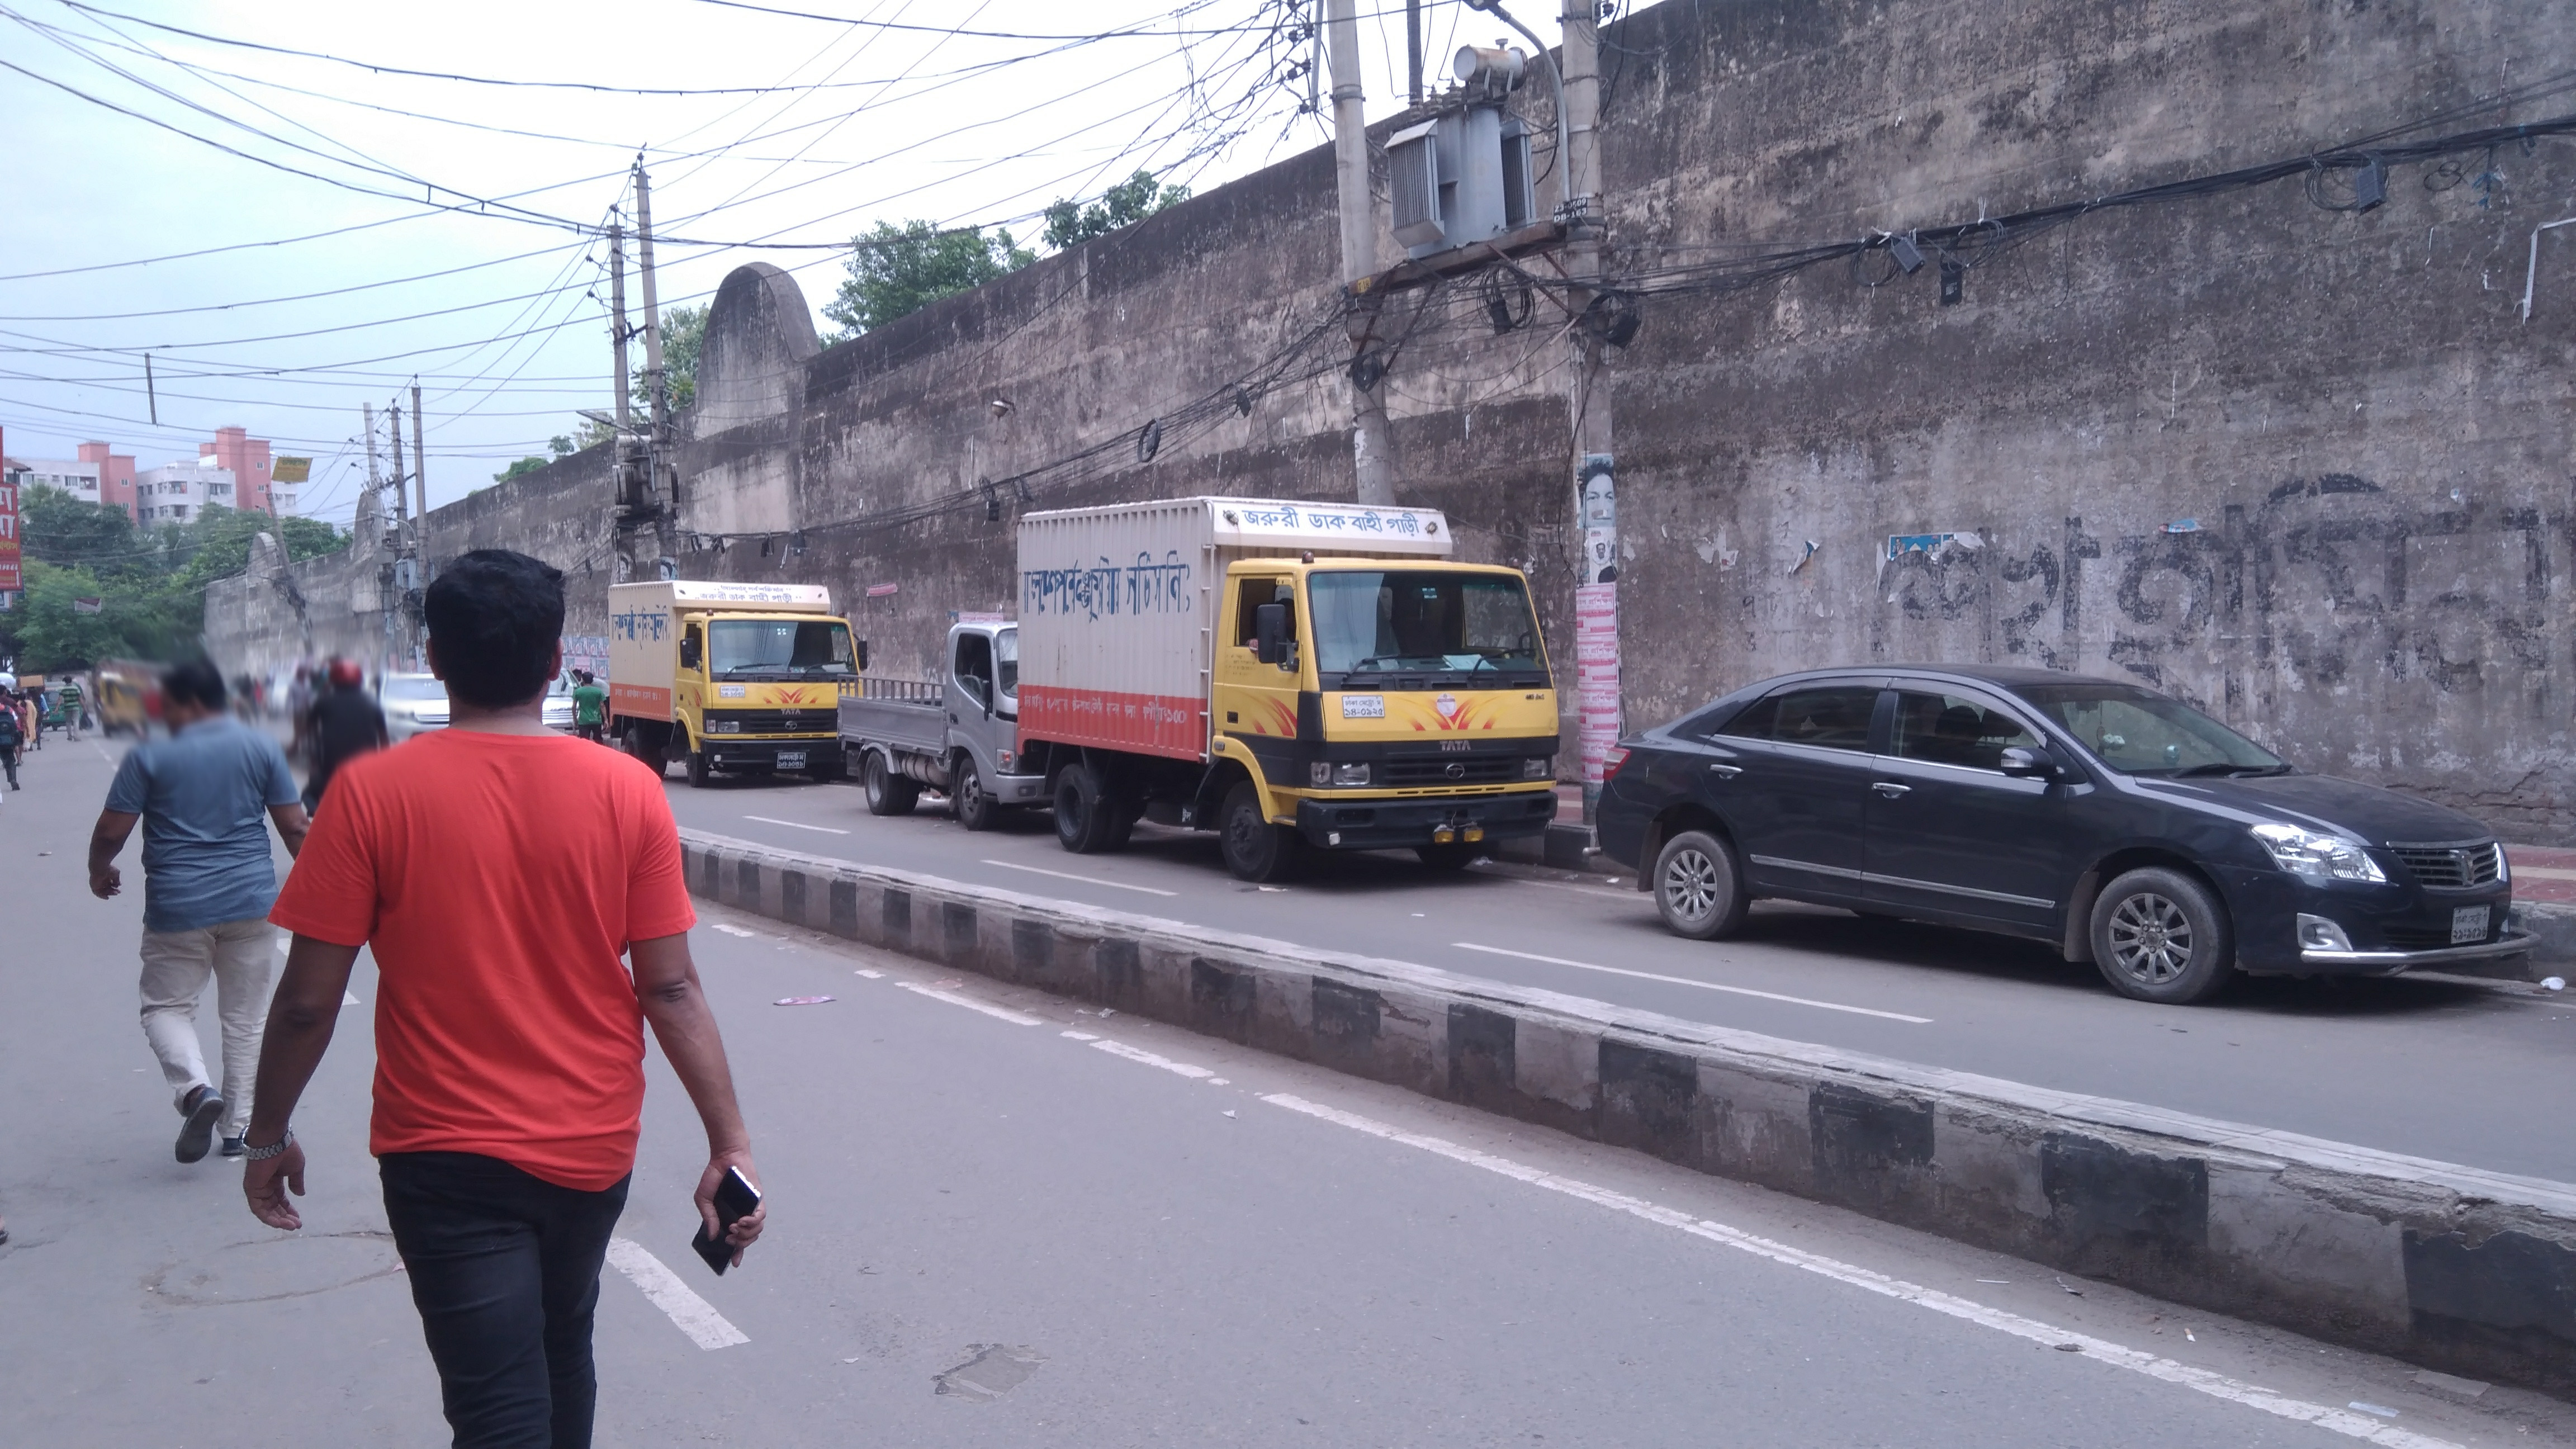car: (1594, 660, 2530, 993), (368, 658, 488, 764)
truck: (1016, 499, 1564, 876), (587, 575, 879, 800), (833, 602, 1060, 839)
